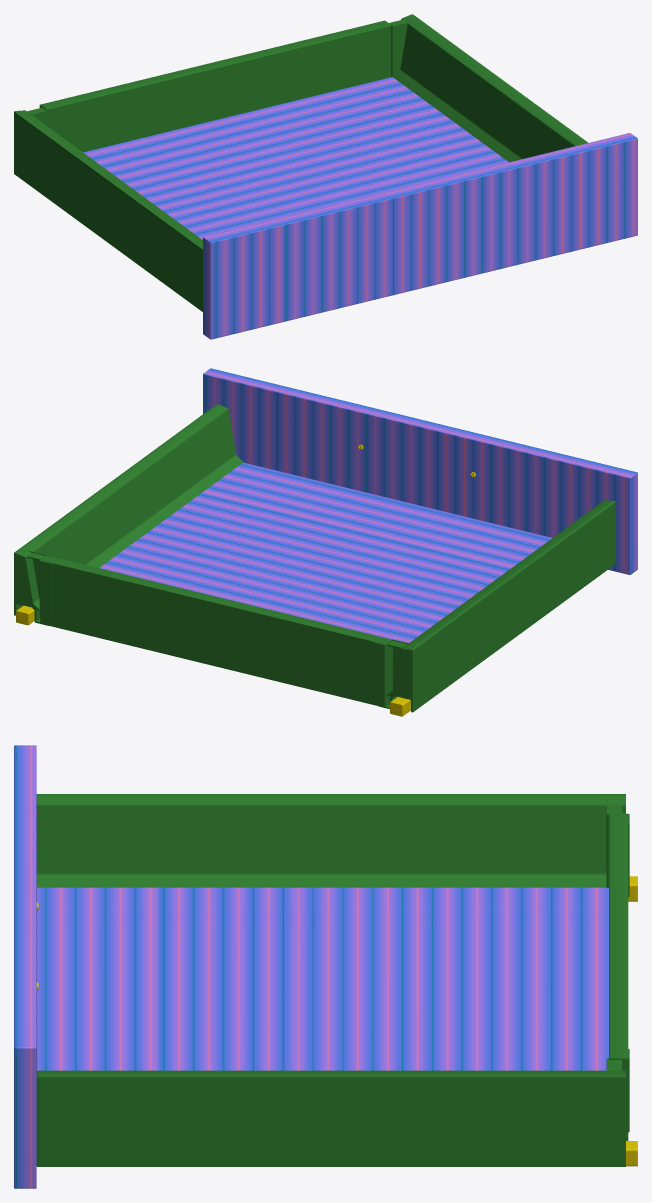
The model's file is SM_Kitchen_09_Drawer_01.fbx.
3 views of the same model, one above another, from view 1: azimuth 30°, elevation 25°; view 2: azimuth 150°, elevation 25°; view 3: azimuth 270°, elevation 25° (orthographic). The views are drawn at different scales.
Visible parts, largest first — view 1: SM_Kitchen_09_Drawer_01; view 2: SM_Kitchen_09_Drawer_01; view 3: SM_Kitchen_09_Drawer_01.
Part boxes in pixels (x1,y1,x2,y2): SM_Kitchen_09_Drawer_01: (14, 14, 637, 339); SM_Kitchen_09_Drawer_01: (14, 368, 637, 716); SM_Kitchen_09_Drawer_01: (14, 745, 637, 1188).
Size of the model in its own units: 59.69 by 13 by 51.99.
Materials: 4 (2 with a texture image).
